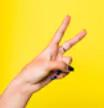front: (14, 14, 90, 93)
